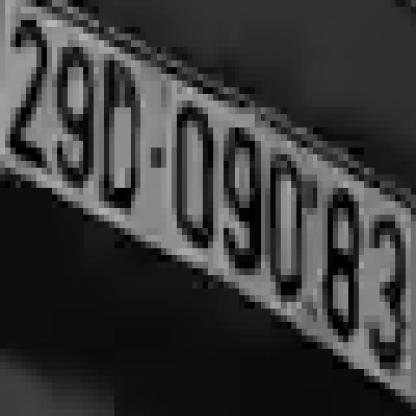0: (172, 101, 213, 248), (260, 154, 302, 296)
2: (10, 20, 52, 175)
3: (364, 208, 400, 369)
8: (317, 188, 354, 342)
9: (52, 47, 99, 188), (218, 114, 260, 268)
D: (99, 60, 140, 208)
